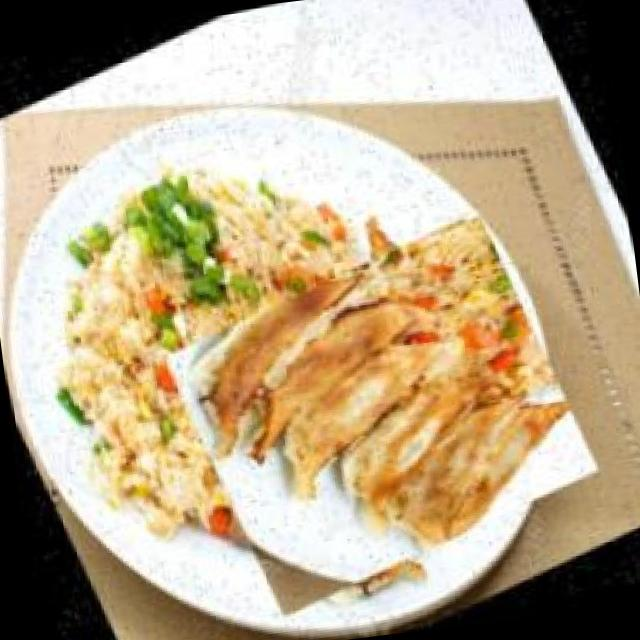fried_dumplings: (147, 182, 607, 640)
